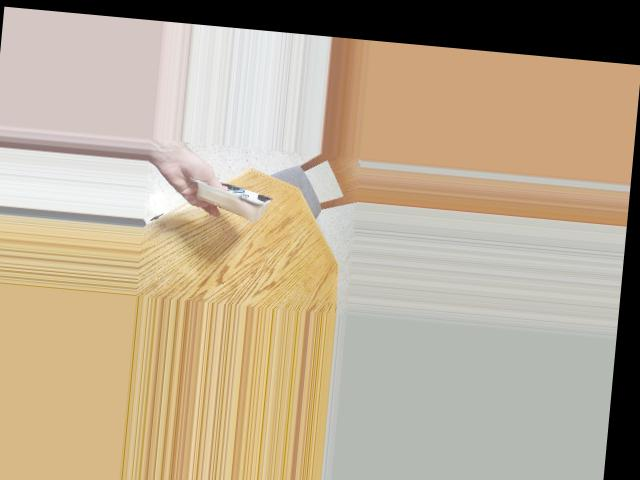cheese: (192, 161, 271, 231)
